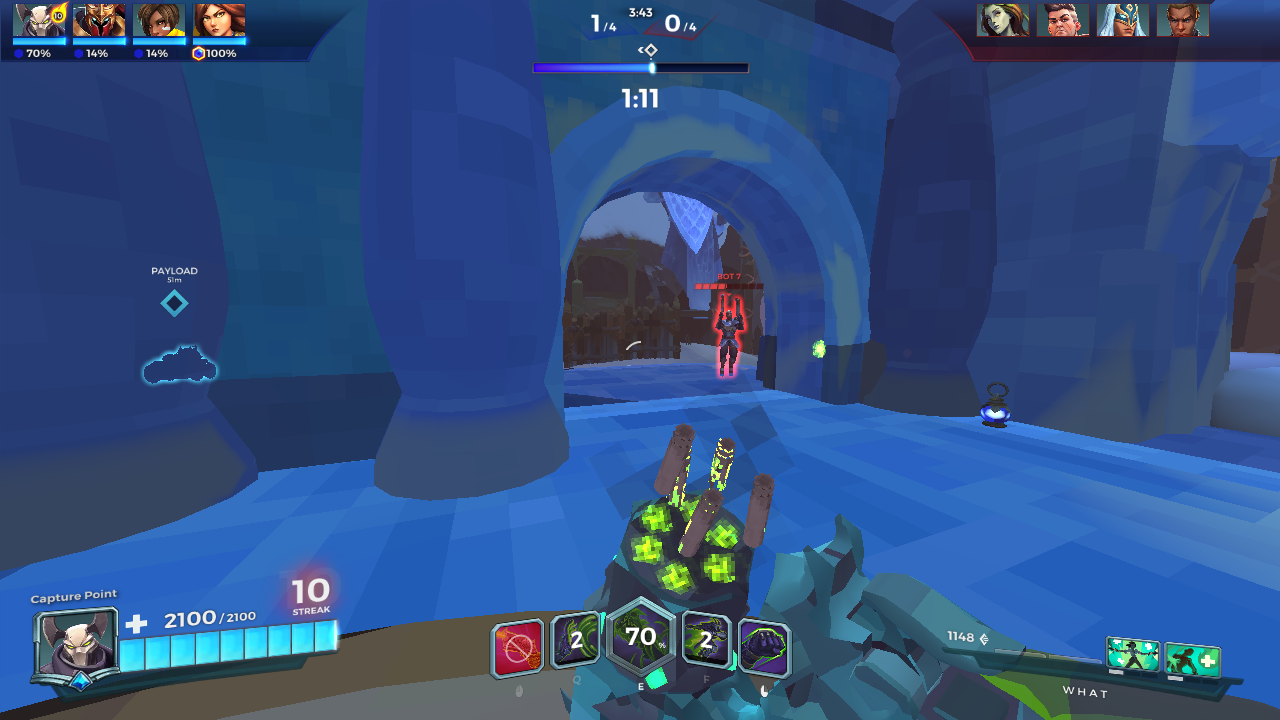model: (714, 295, 747, 385)
